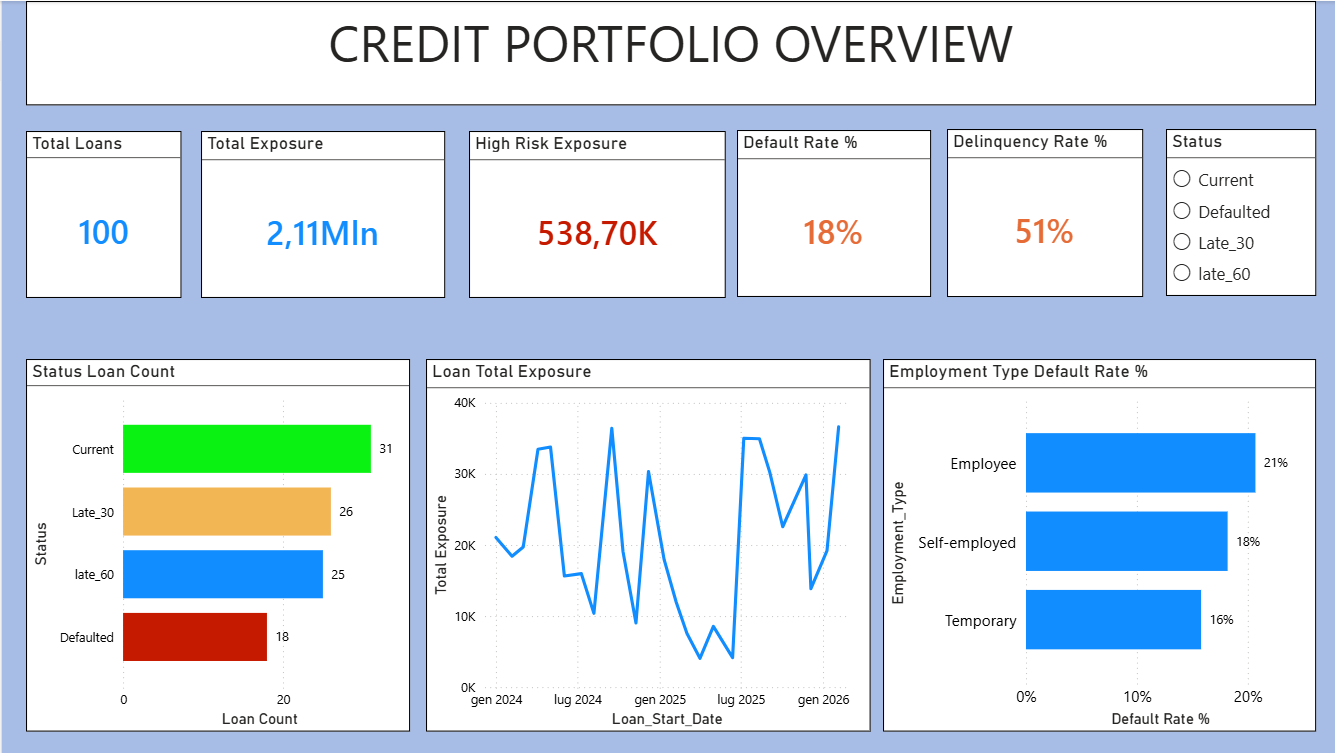

Layout of this report page (visuals, bound fields, positions):
{"tool":"powerbi","page":{"name":"Overview Portfolio","canvas":[1280,720],"ordinal":0},"visuals":[{"type":"cardVisual","title":"Total Loans","fields":{"Data":["Dataset.N° Prestiti"]},"box":[23,124.6,149.5,160],"z":0},{"type":"cardVisual","title":"Total Exposure","fields":{"Data":["Dataset.Esposizione Totale"]},"box":[190.7,124.6,233.8,160],"z":1000},{"type":"cardVisual","title":"Default Rate %","fields":{"Data":["Dataset.Tasso di Default"]},"box":[704.2,123.6,185.9,160],"z":2000},{"type":"cardVisual","title":"Delinquency Rate %","fields":{"Data":["Dataset.Tasso di Ritardo"]},"box":[905.4,122.6,187.8,161],"z":3000},{"type":"cardVisual","title":"High Risk Exposure","fields":{"Data":["Dataset.Esposizione High Risk"]},"box":[447.4,124.6,246.2,160],"z":4000},{"type":"clusteredBarChart","title":"Employment Type Default Rate % ","fields":{"Category":["Dataset.Employment_Type"],"Y":["Dataset.Tasso di Default"]},"box":[844.1,343,414.9,357.4],"z":5000},{"type":"listSlicer","fields":{"Values":["Dataset.Status"]},"box":[1115.2,122.6,143.7,160],"z":6000},{"type":"textbox","box":[23,0,1235.9,99.6],"z":7000},{"type":"barChart","title":"Status Loan Count","fields":{"Y":["Dataset.N° Prestiti"],"Category":["Dataset.Status"]},"box":[23,343,367.9,357.4],"z":8000},{"type":"lineChart","title":"Loan Total Exposure ","fields":{"Category":["Dataset.Loan_Start_Date"],"Y":["Dataset.Total Exposure"]},"box":[406.2,343,426.3,357.4],"z":9000}]}

Visuals, with their boxes in screenshot pixels (x1, y1, x2, y2), scaled from the page's 1280x720 canvas onto the 1335x753 screenshot:
"Total Loans" cardVisual: bbox=[24, 130, 180, 298]
"Total Exposure" cardVisual: bbox=[199, 130, 443, 298]
"Default Rate %" cardVisual: bbox=[734, 129, 928, 297]
"Delinquency Rate %" cardVisual: bbox=[944, 128, 1140, 297]
"High Risk Exposure" cardVisual: bbox=[467, 130, 723, 298]
"Employment Type Default Rate % " clusteredBarChart: bbox=[880, 359, 1313, 733]
listSlicer - Dataset.Status: bbox=[1163, 128, 1313, 296]
textbox: bbox=[24, 0, 1313, 104]
"Status Loan Count" barChart: bbox=[24, 359, 408, 733]
"Loan Total Exposure " lineChart: bbox=[424, 359, 868, 733]
